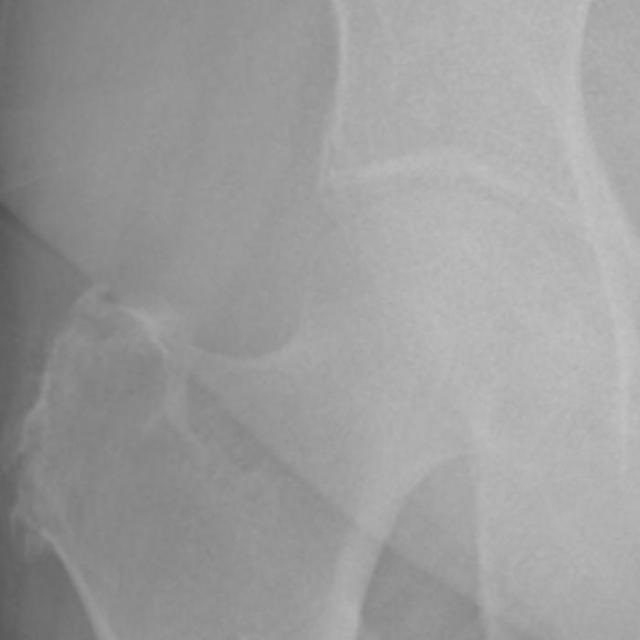Fitted_femural_head: (299, 180, 432, 299)
